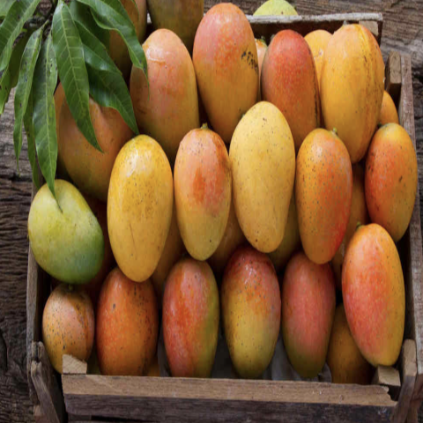mango: (224, 93, 303, 266), (313, 23, 397, 182), (103, 124, 177, 287), (336, 209, 410, 367), (184, 6, 262, 143), (291, 123, 365, 265), (162, 239, 225, 404), (19, 178, 100, 296), (167, 116, 233, 254), (274, 238, 336, 371), (361, 120, 419, 254)
